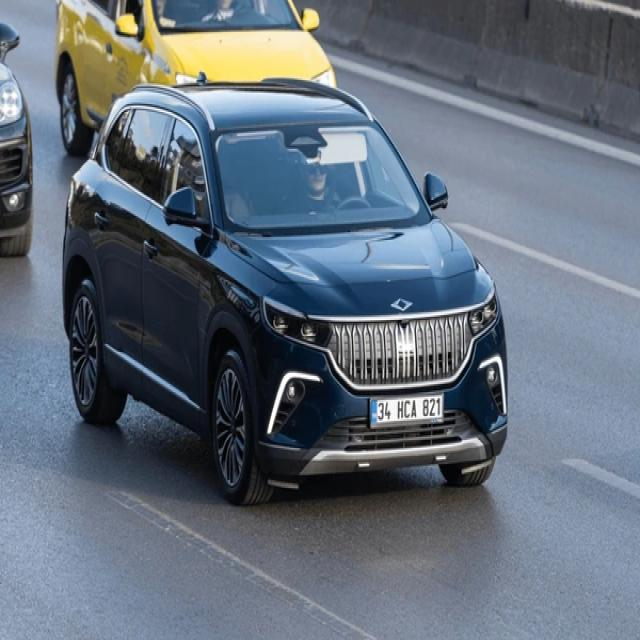togg: (390, 296, 416, 314)
